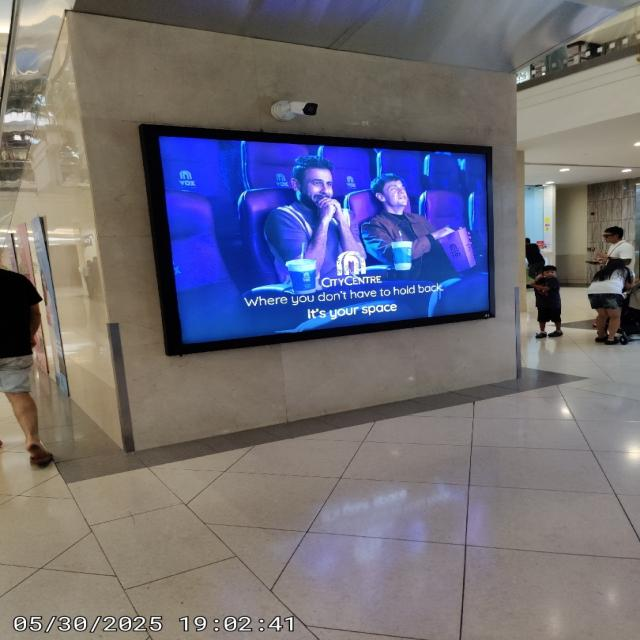digital-board-medium: (142, 125, 497, 357)
